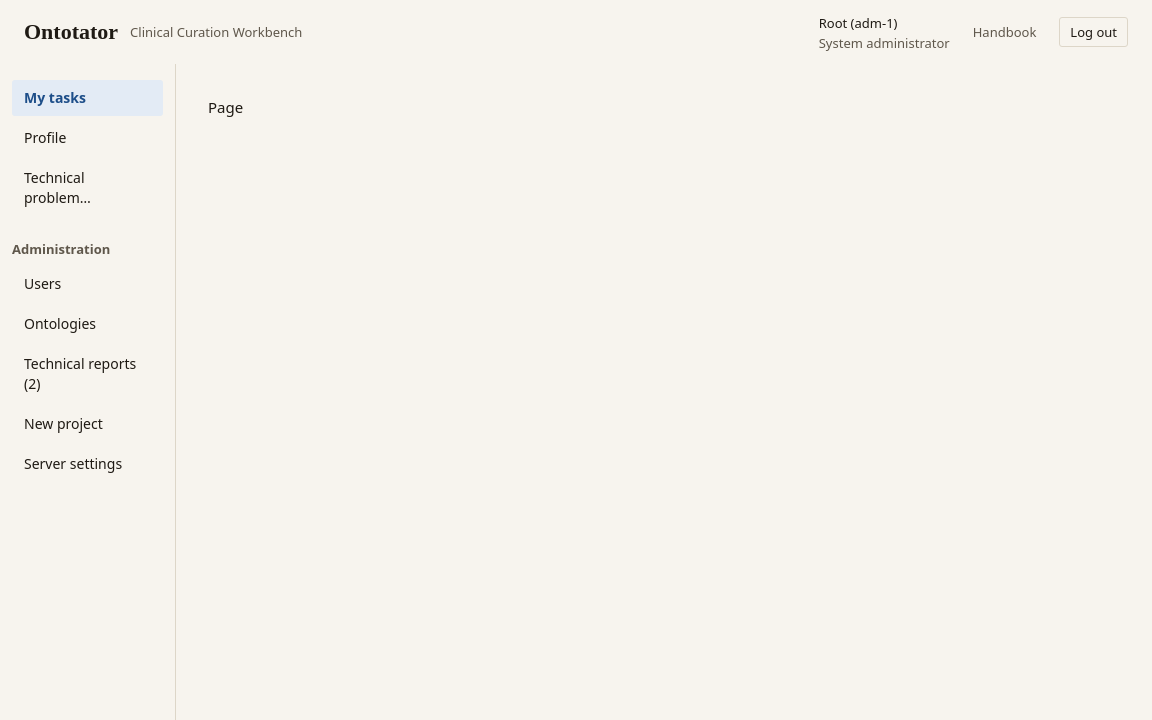
it: navigation › offers the report to everyone and the open count to administrators
This screenshot has width=1152, height=720.
Expected: the link with aria-label "Technical reports, 2 open" is shown, [24,354,136,393]
What coordinates should you click on to do the following:
click the button with aria-label "Report a technical problem…"
I would click on:
 (88, 188)
Its box is [12,160,163,216].
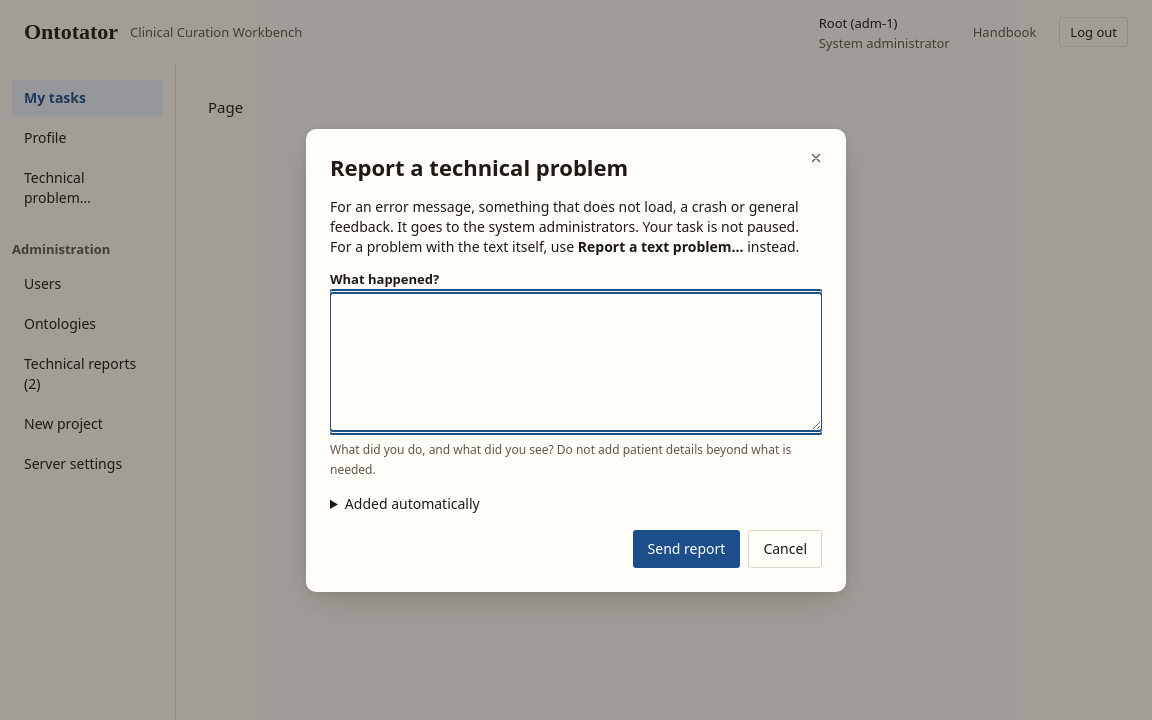
Result: the dialog "Report a technical problem" is shown at [306,128,846,592]
